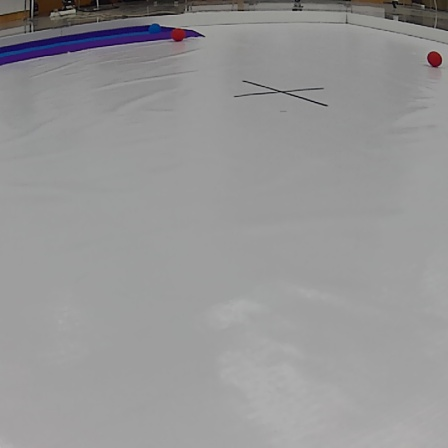blue: (148, 21, 161, 40)
blue_aim: (2, 21, 208, 63)
red: (169, 25, 190, 45), (426, 51, 444, 69)
